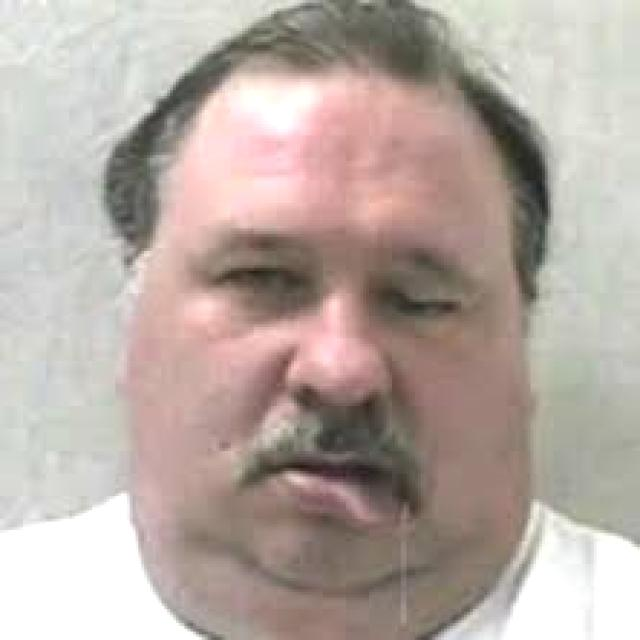stroke_face: (124, 40, 536, 634)
